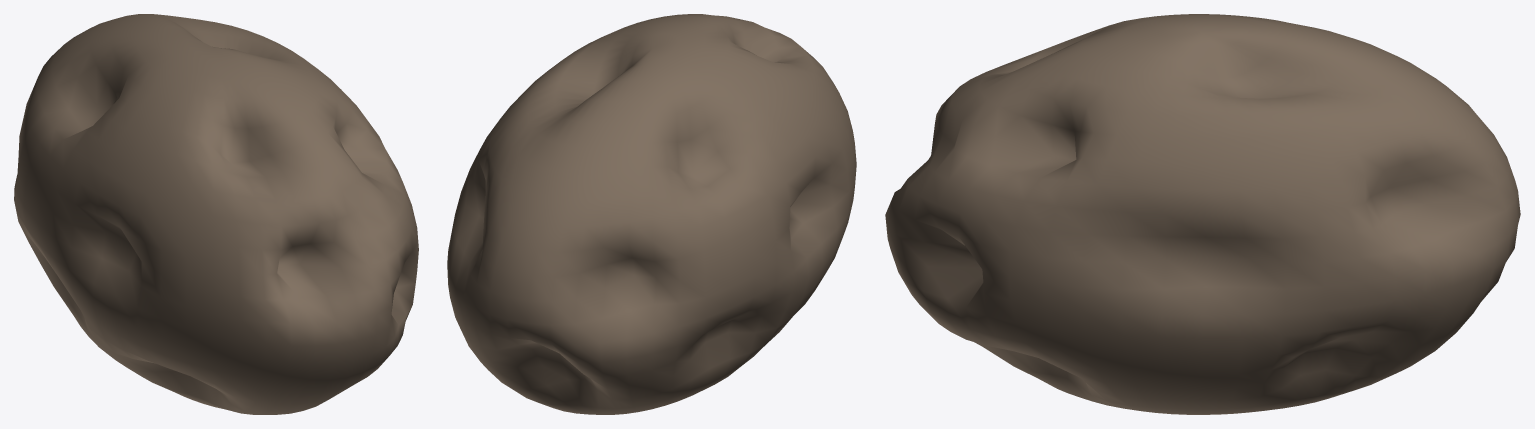
Rendered from Asteroid.fbx.
3 views of the same model, side by side, from view 1: azimuth 30°, elevation 25°; view 2: azimuth 150°, elevation 25°; view 3: azimuth 270°, elevation 25° (orthographic). The views are drawn at different scales.
Visible parts, largest first — view 1: Sphere; view 2: Sphere; view 3: Sphere.
Boxes of the visible parts, x1,y1,x2,y2 form: Sphere: (14,14,418,414); Sphere: (447,14,856,414); Sphere: (885,14,1520,414).
Bounding box in the file's own units: 382 × 420 × 666.
